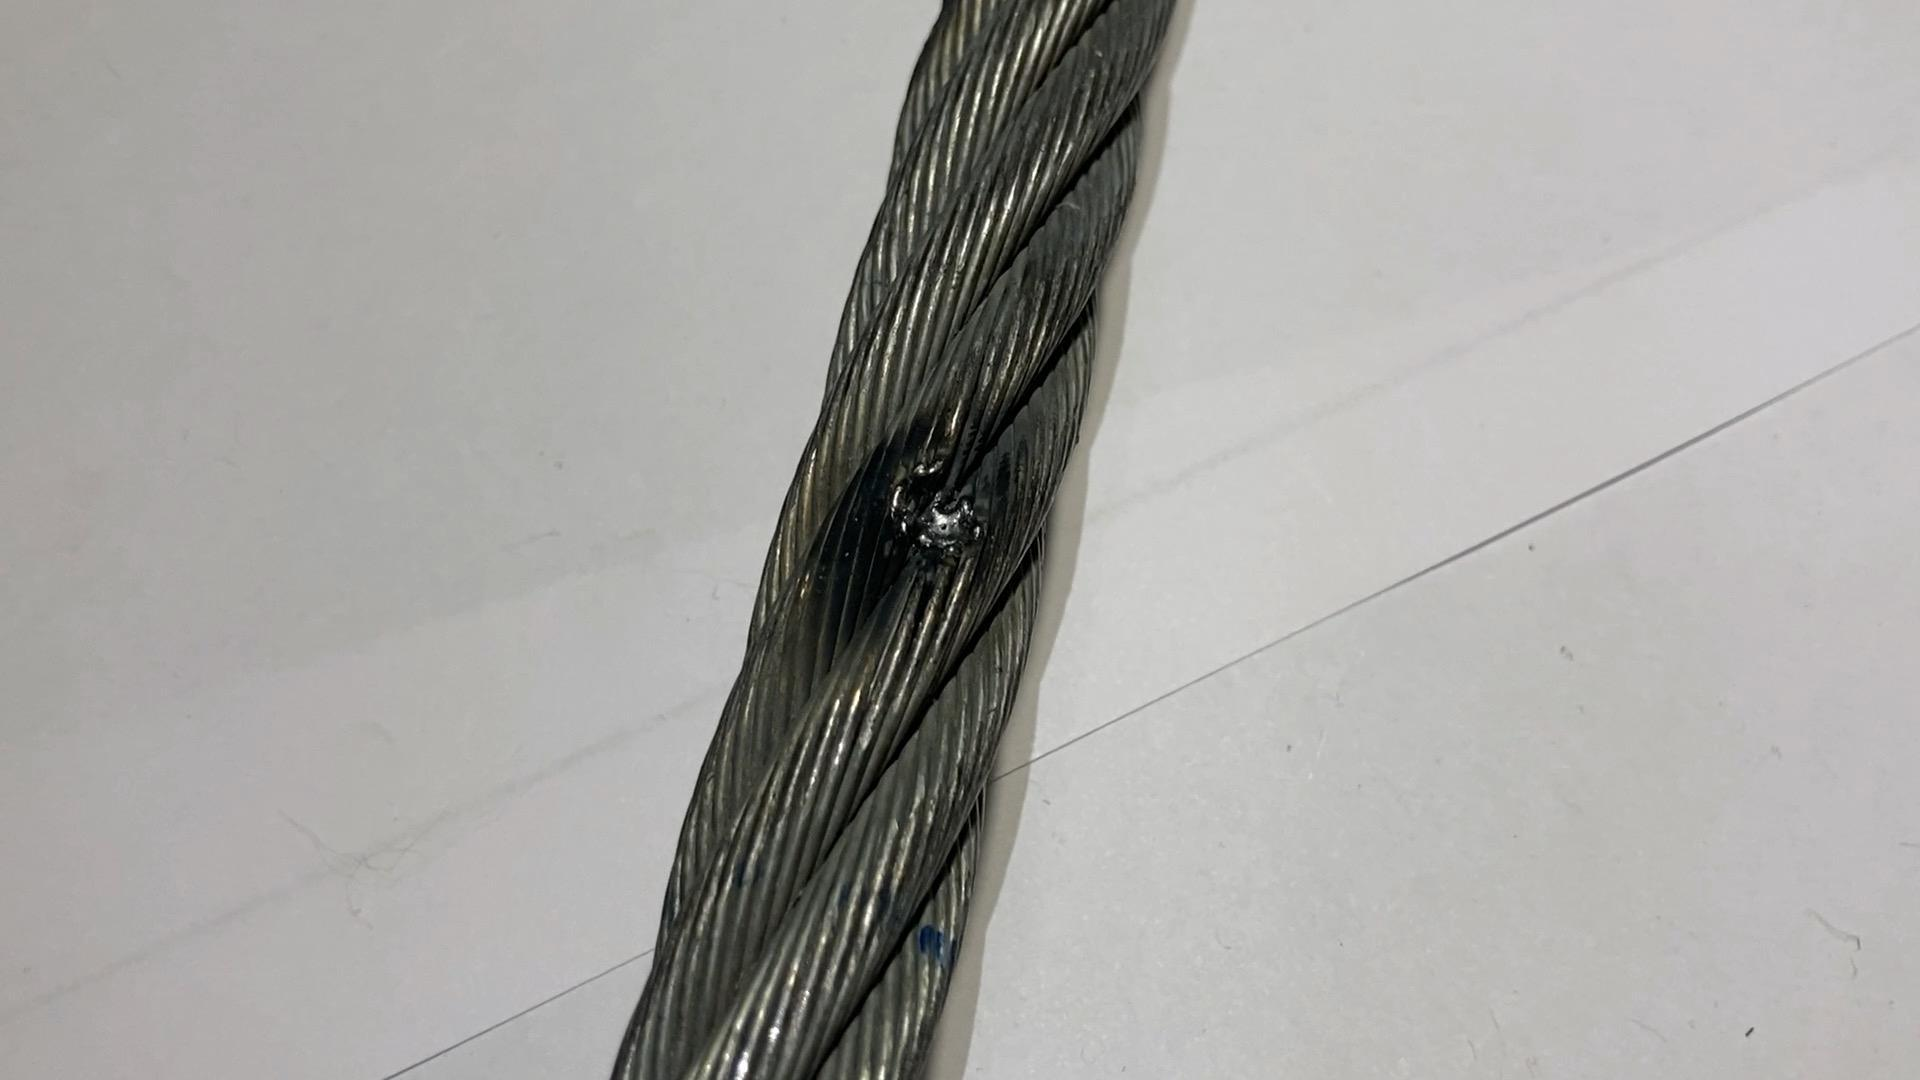thunderbolt: (858, 393, 1014, 553)
